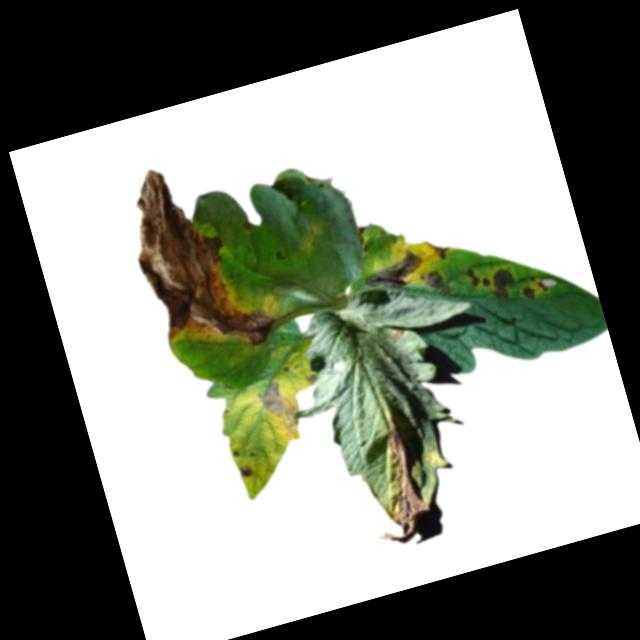Early_blight: (114, 147, 279, 369), (350, 410, 438, 548), (358, 244, 428, 300), (252, 374, 302, 433), (487, 263, 520, 300), (421, 264, 454, 300), (518, 269, 549, 301), (428, 233, 456, 265), (463, 262, 491, 291), (237, 460, 256, 479)
